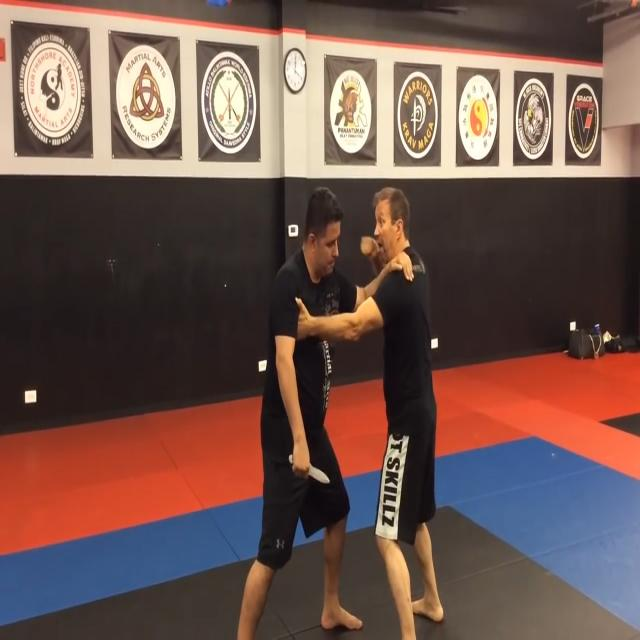knife: (305, 464, 333, 488)
